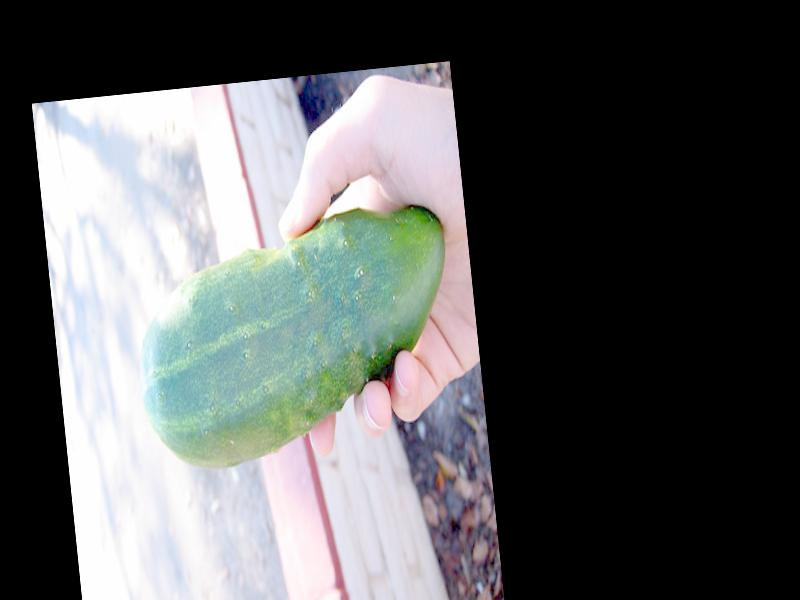Cucumber: (128, 202, 464, 477)
